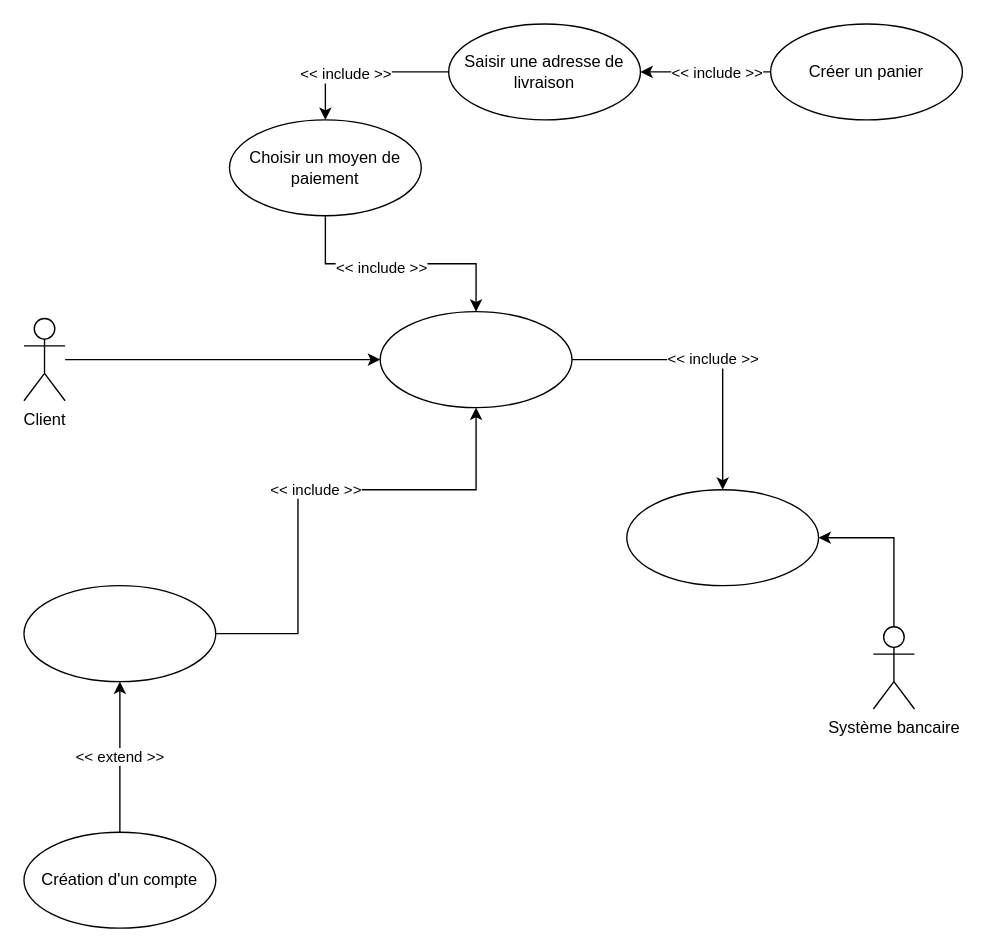
Some shapes in this 986 by 952 pixel diagram are drawn without their labels. The shapes that lost their labels are listed below. From the top down, each one's centre as x and y in pixels, then its label:
At (475,359): "Créer une commande".
At (722,537): "Validation du paiement".
At (119,633): "Authentification".
